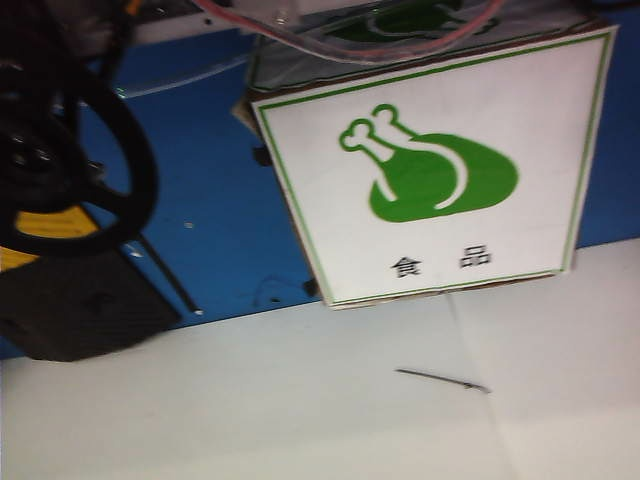Cube_food: (321, 89, 549, 283)
